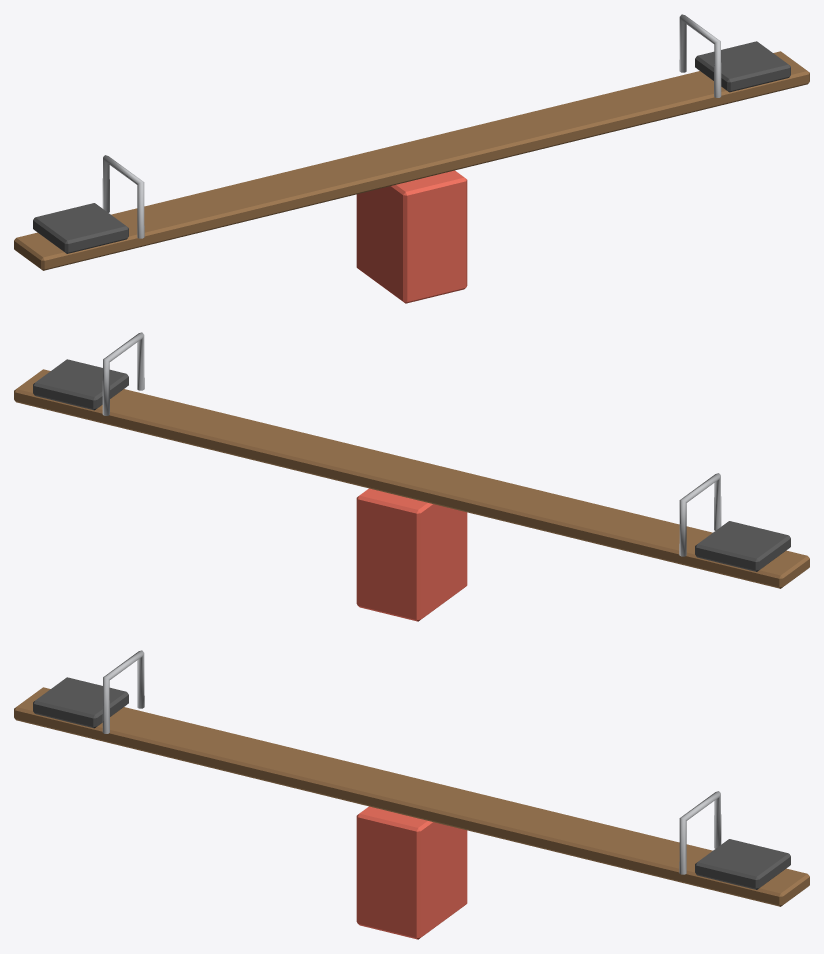
The model's file is seesaw.glb.
3 renders of one model, top to bottom at view 1: azimuth 30°, elevation 25°; view 2: azimuth 150°, elevation 25°; view 3: azimuth 330°, elevation 25°, orthographic.
Visible parts, largest first — view 1: seesaw; view 2: seesaw; view 3: seesaw.
Boxes of the visible parts, box(x1,y1,x2,y2) form: seesaw: box(14, 14, 809, 303); seesaw: box(14, 332, 809, 621); seesaw: box(14, 650, 809, 939).
Bounding box in the file's own units: 3.6 × 0.8114 × 0.4.
